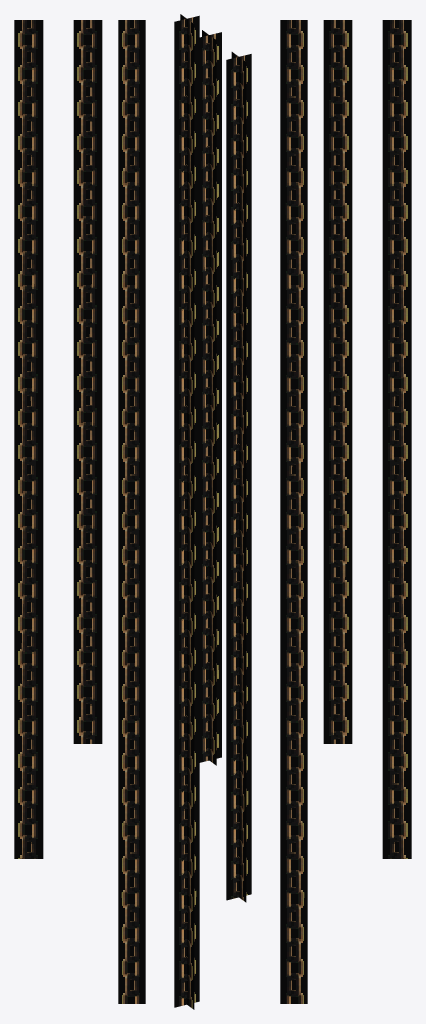
File: PelagicIIExploration_Alpha_119.glb
3 renders of one model, left to right at view 1: azimuth 90°, elevation 25°; view 2: azimuth 210°, elevation 25°; view 3: azimuth 270°, elevation 25°, orthographic.
Visible parts, largest first — view 1: PelagicIIExploration_Alpha_119; view 2: PelagicIIExploration_Alpha_119; view 3: PelagicIIExploration_Alpha_119.
Part boxes in pixels (x1,y1,x2,y2): PelagicIIExploration_Alpha_119: [14, 20, 145, 1003]; PelagicIIExploration_Alpha_119: [174, 14, 251, 1009]; PelagicIIExploration_Alpha_119: [280, 20, 411, 1003].
Bounding box in the file's own units: 2.5 × 94.12 × 11.38.
Materials: 1 (1 with a texture image).
